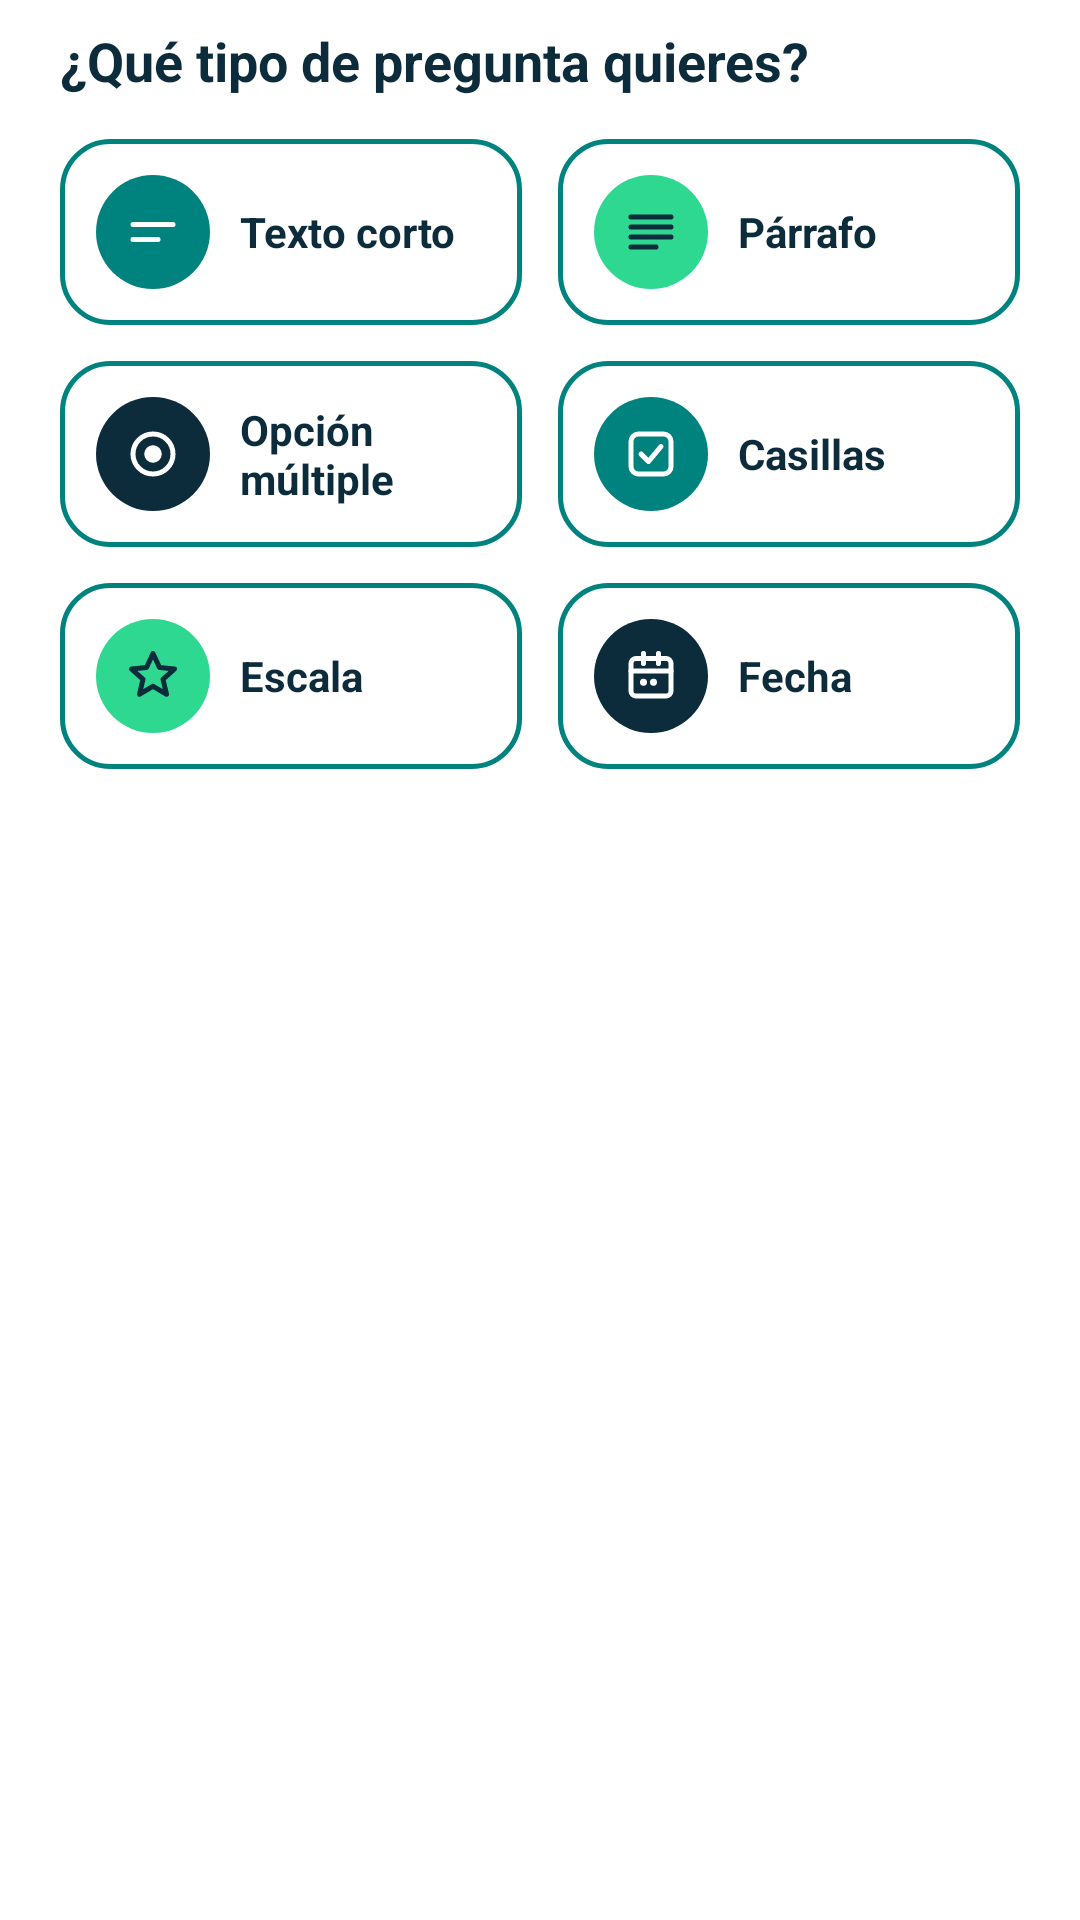

Where to tap for icons on this 1080×1920 app screen, as [x,y]:
opcion multiple: [153,454]
parrafo: [651,232]
